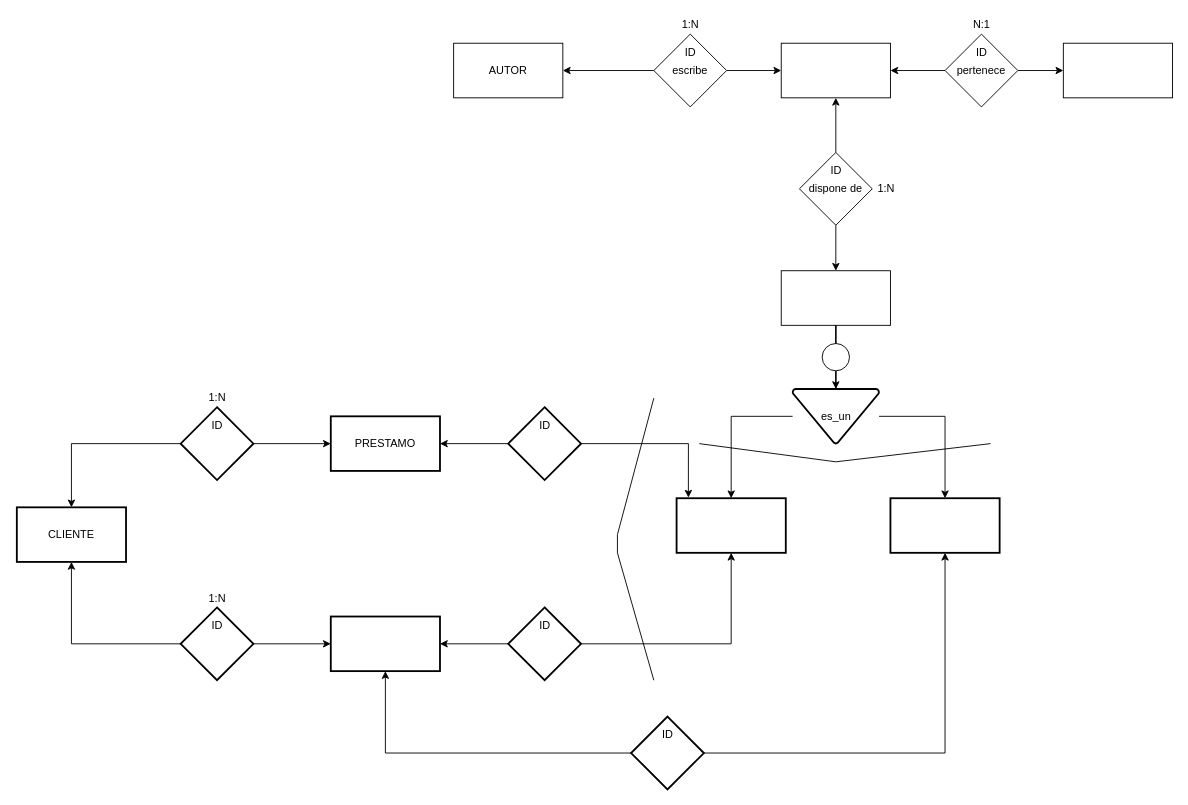
Some shapes in this 1188 by 805 pixel diagram are drawn without their labels. Each missing label, with the centre of its shape:
EDITORIAL: the point at 1117,70
EJEMPLAR: the point at 835,297
LIBRO: the point at 835,70
NO PRESTABLE: the point at 944,525
PRESTABLE: the point at 730,525
SALA: the point at 384,643
